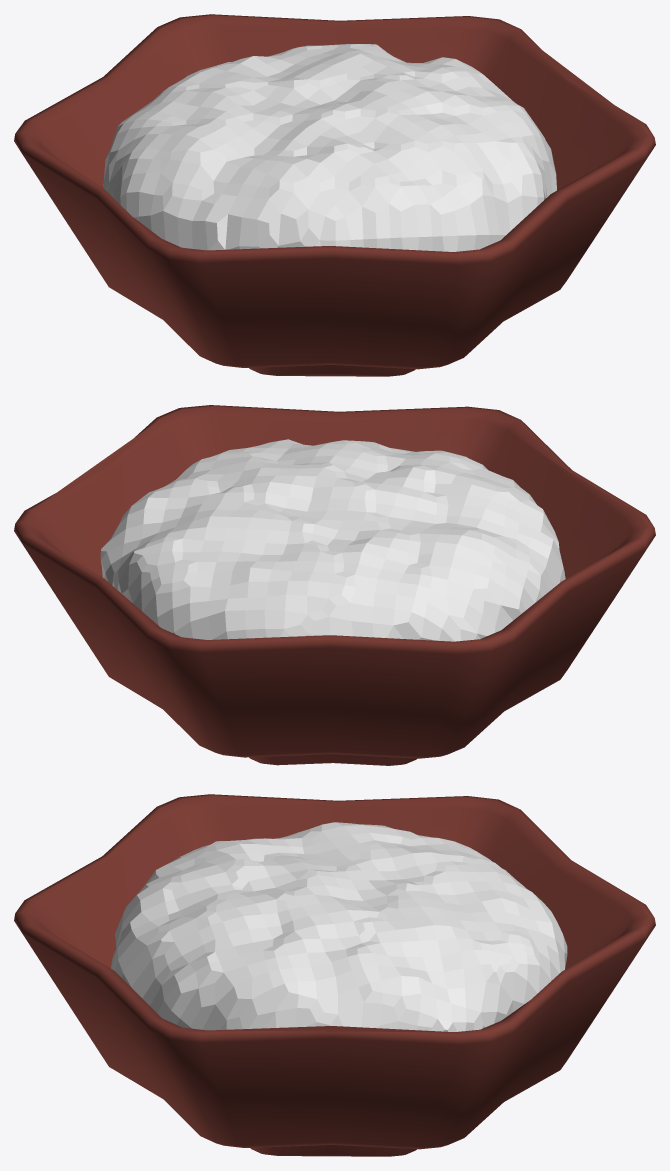
Rendered from tazonArroz.fbx.
3 renders of one model, top to bottom at view 1: azimuth 30°, elevation 25°; view 2: azimuth 150°, elevation 25°; view 3: azimuth 270°, elevation 25°, orthographic.
Parts seen in each view (by area): view 1: tazonArroz; view 2: tazonArroz; view 3: tazonArroz.
Part boxes in pixels (x1,y1,x2,y2): tazonArroz: (14, 14, 655, 376); tazonArroz: (14, 405, 655, 765); tazonArroz: (14, 794, 655, 1156).
Size of the model in its own units: 28.31 by 12.24 by 31.53.
